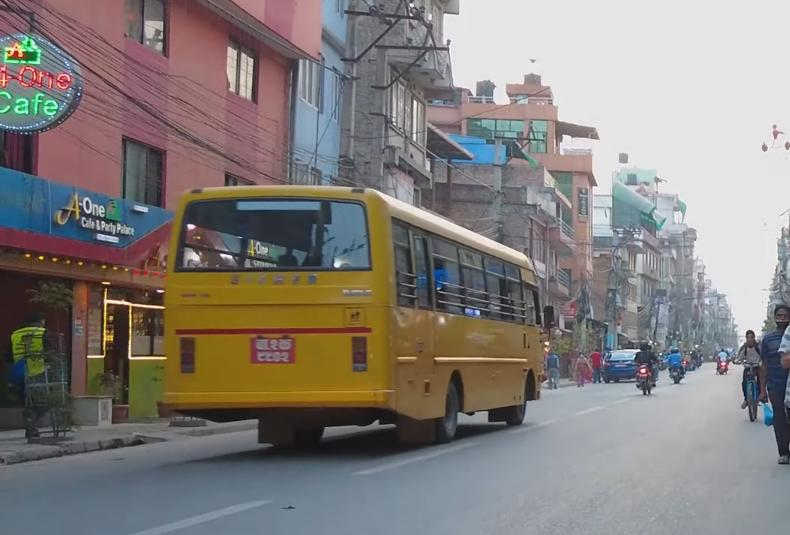bike: (637, 357, 657, 397)
car: (602, 347, 649, 384)
school_bus: (161, 179, 557, 447)
